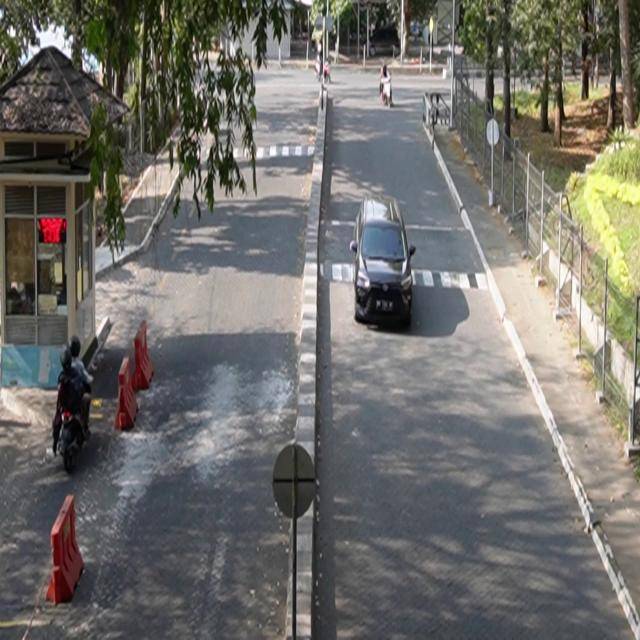car: (350, 195, 417, 327)
